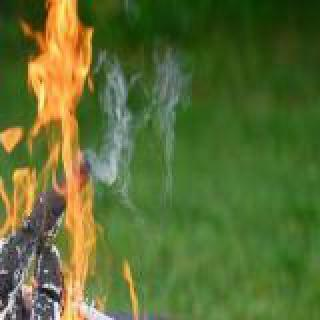fire: (0, 10, 100, 320), (98, 28, 194, 218)
